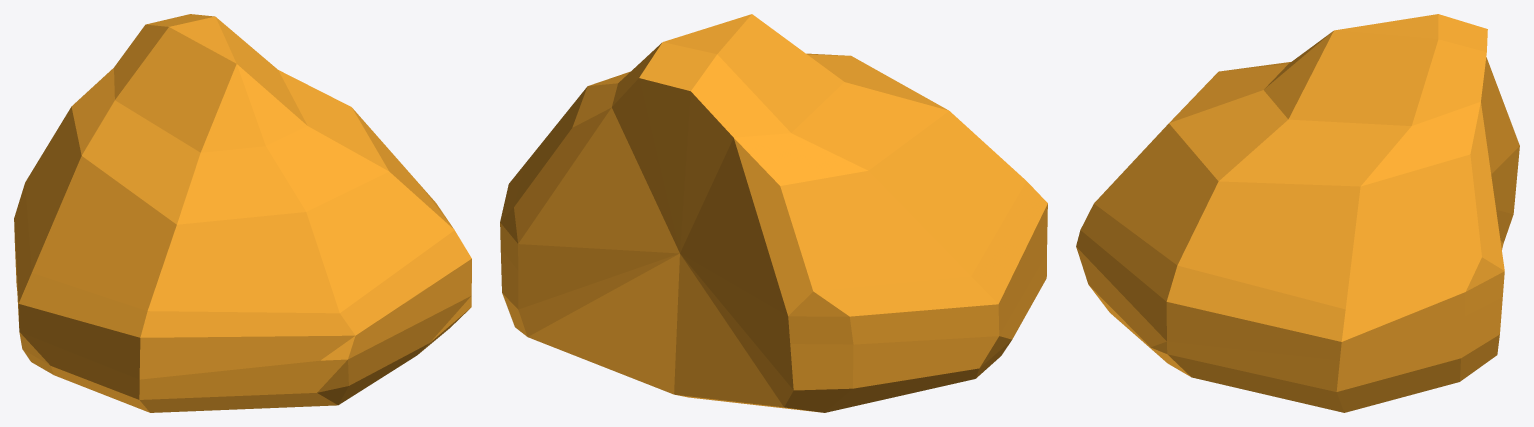
File: SM_Mushroom_Polypore_Fomes_A.fbx
The picture shows the model from 3 angles, left to right: view 1: azimuth 30°, elevation 25°; view 2: azimuth 150°, elevation 25°; view 3: azimuth 270°, elevation 25°; orthographic projection. The views are drawn at different scales.
Visible parts, largest first — view 1: mushroom-polypore-fomes-a; view 2: mushroom-polypore-fomes-a; view 3: mushroom-polypore-fomes-a.
Boxes of the visible parts, x1,y1,x2,y2 form: mushroom-polypore-fomes-a: (14,14,471,412); mushroom-polypore-fomes-a: (500,14,1047,412); mushroom-polypore-fomes-a: (1076,14,1519,412).
Bounding box in the file's own units: 0.4201 × 0.2798 × 0.361.
